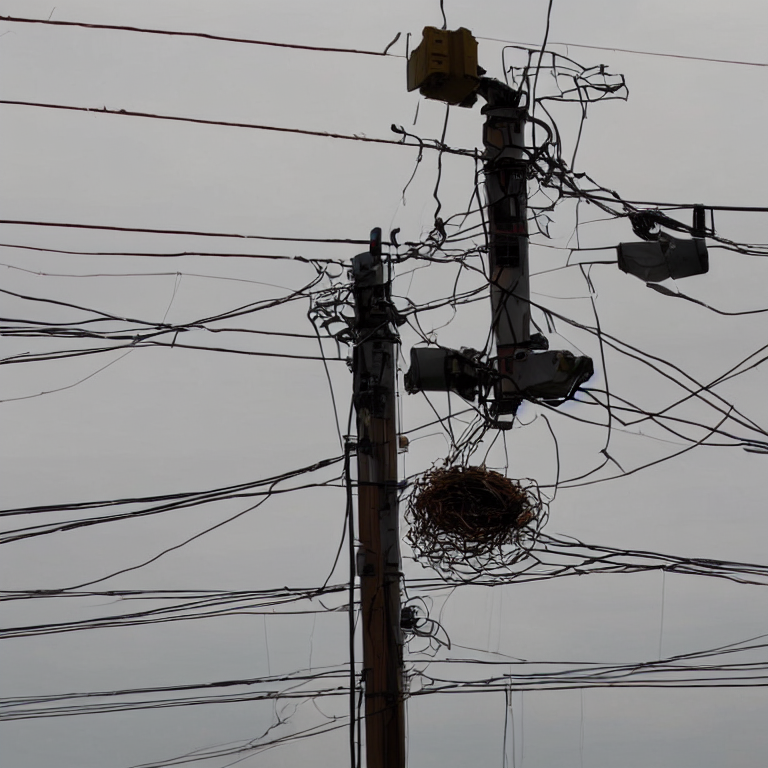nest: (413, 468, 535, 566)
